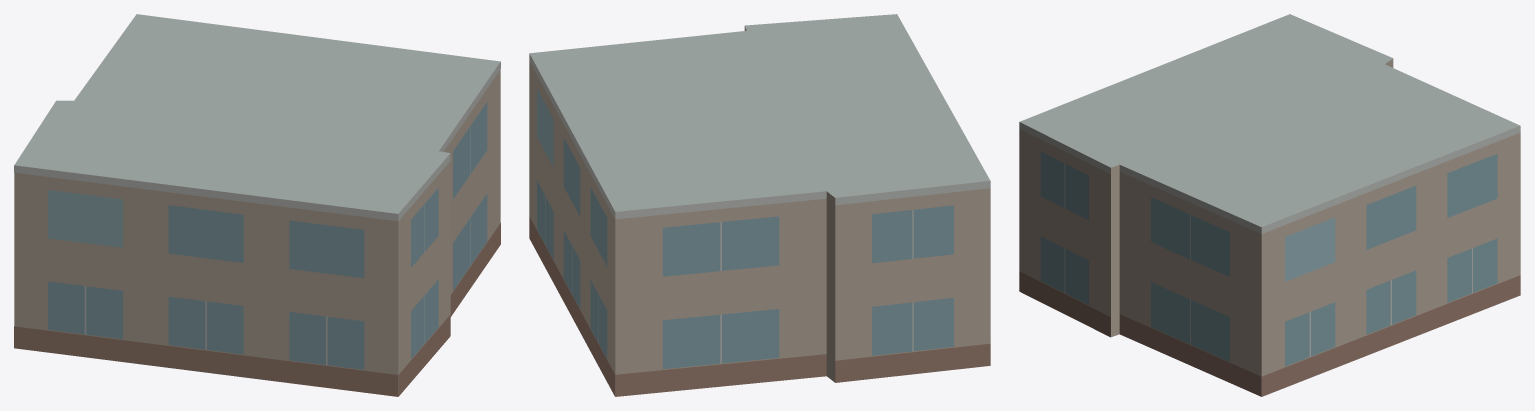
Rendered from survey-upis-32918659.glb.
The picture shows the model from 3 angles, left to right: view 1: azimuth 30°, elevation 25°; view 2: azimuth 150°, elevation 25°; view 3: azimuth 270°, elevation 25°; orthographic projection. The views are drawn at different scales.
Visible parts, largest first — view 1: survey-upis-32918659.tmp; view 2: survey-upis-32918659.tmp; view 3: survey-upis-32918659.tmp.
Boxes of the visible parts, box(x1,y1,x2,y2) form: survey-upis-32918659.tmp: box(14, 14, 500, 396); survey-upis-32918659.tmp: box(529, 14, 990, 396); survey-upis-32918659.tmp: box(1019, 14, 1520, 396).
Size of the model in its own units: 16.46 by 6.1 by 16.35.
